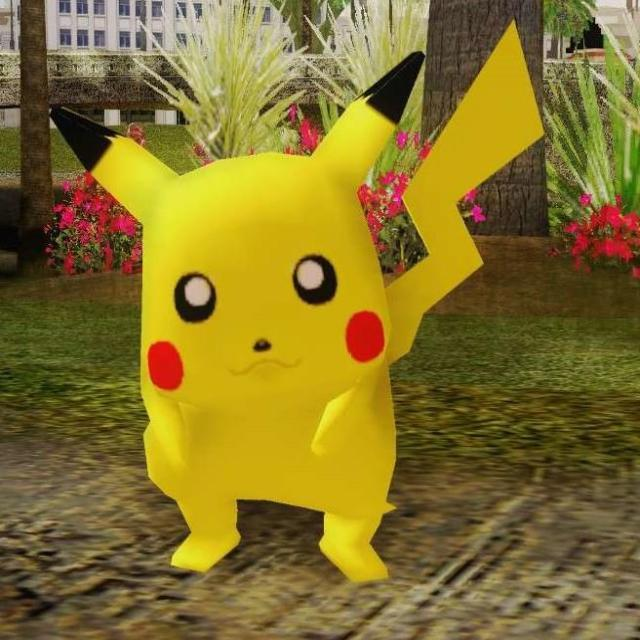pikachu: (50, 23, 542, 577)
